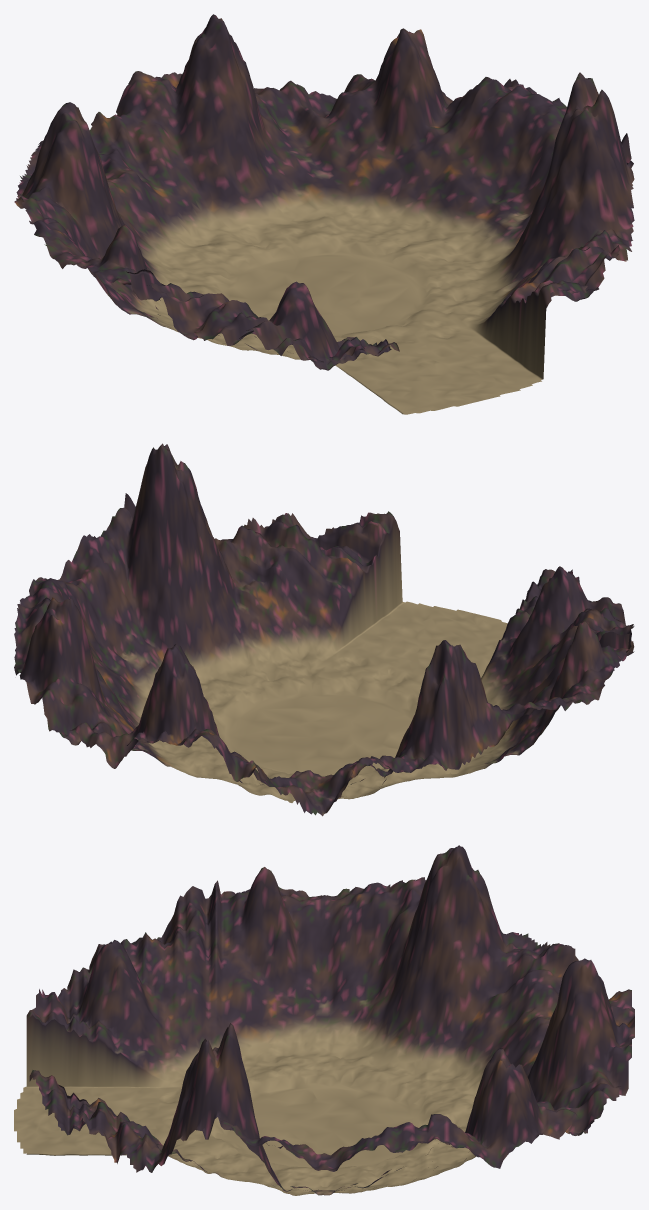
Rendered from kt_reef_v2.glb.
The picture shows the model from 3 angles, top to bottom: view 1: azimuth 30°, elevation 25°; view 2: azimuth 150°, elevation 25°; view 3: azimuth 270°, elevation 25°; orthographic projection.
Parts seen in each view (by area): view 1: kt_reef; view 2: kt_reef; view 3: kt_reef.
Boxes of the visible parts, x1,y1,x2,y2 form: kt_reef: (14, 14, 634, 414); kt_reef: (14, 443, 634, 816); kt_reef: (14, 845, 634, 1195).
Bounding box in the file's own units: 17.82 × 6.58 × 17.82.
